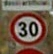limite 30: (7, 10, 47, 46)
